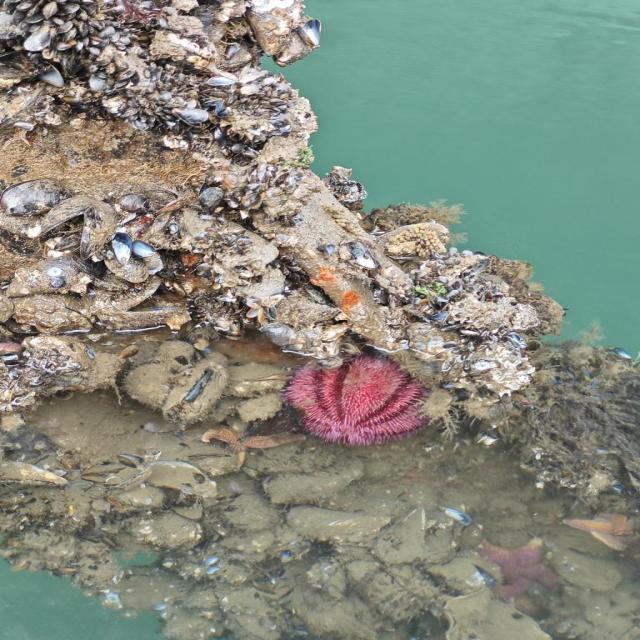Deniz Kestanesi: (283, 355, 427, 445)
